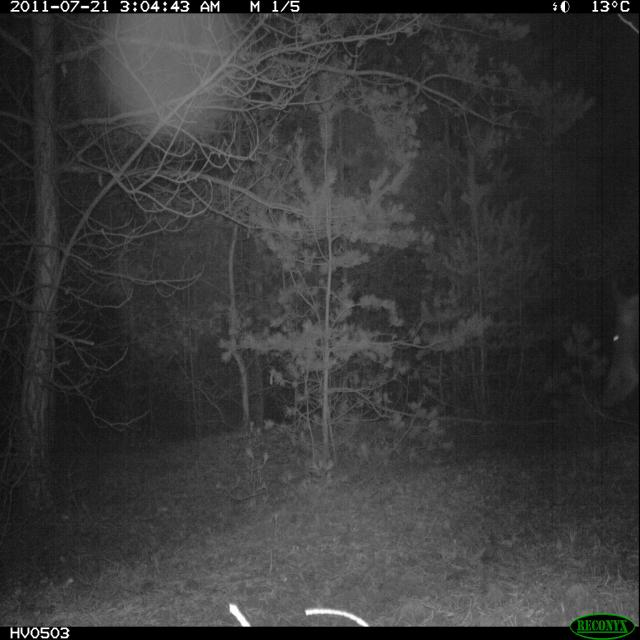boar: (580, 263, 640, 429)
